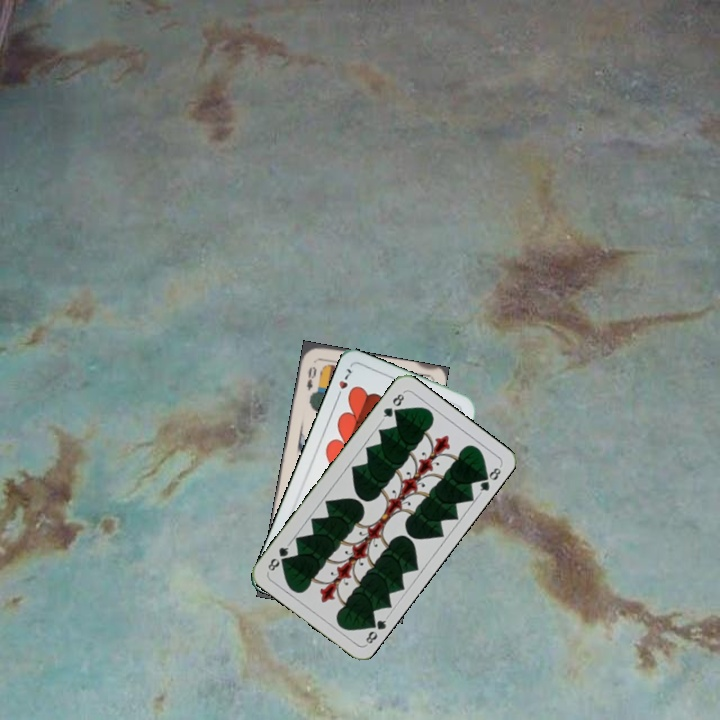EO: (303, 362, 319, 393)
G8: (378, 388, 407, 423), (362, 613, 391, 648)
H7: (332, 364, 355, 402)
